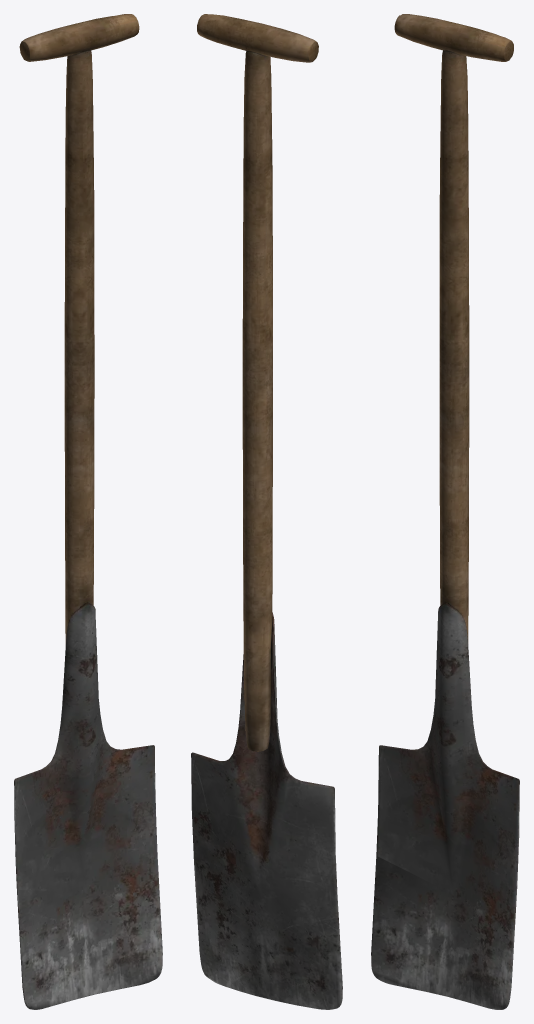
File: spade.glb
3 views of the same model, side by side, from view 1: azimuth 30°, elevation 25°; view 2: azimuth 150°, elevation 25°; view 3: azimuth 330°, elevation 25° (orthographic). The views are drawn at different scales.
Visible parts, largest first — view 1: rusted_spade_01; view 2: rusted_spade_01; view 3: rusted_spade_01.
Boxes of the visible parts, x1,y1,x2,y2 form: rusted_spade_01: (14,14,162,1009); rusted_spade_01: (191,14,342,1009); rusted_spade_01: (371,14,519,1009).
Bounding box in the file's own units: 0.1681 × 1.1 × 0.0453.
Materials: 1 (1 with a texture image).
